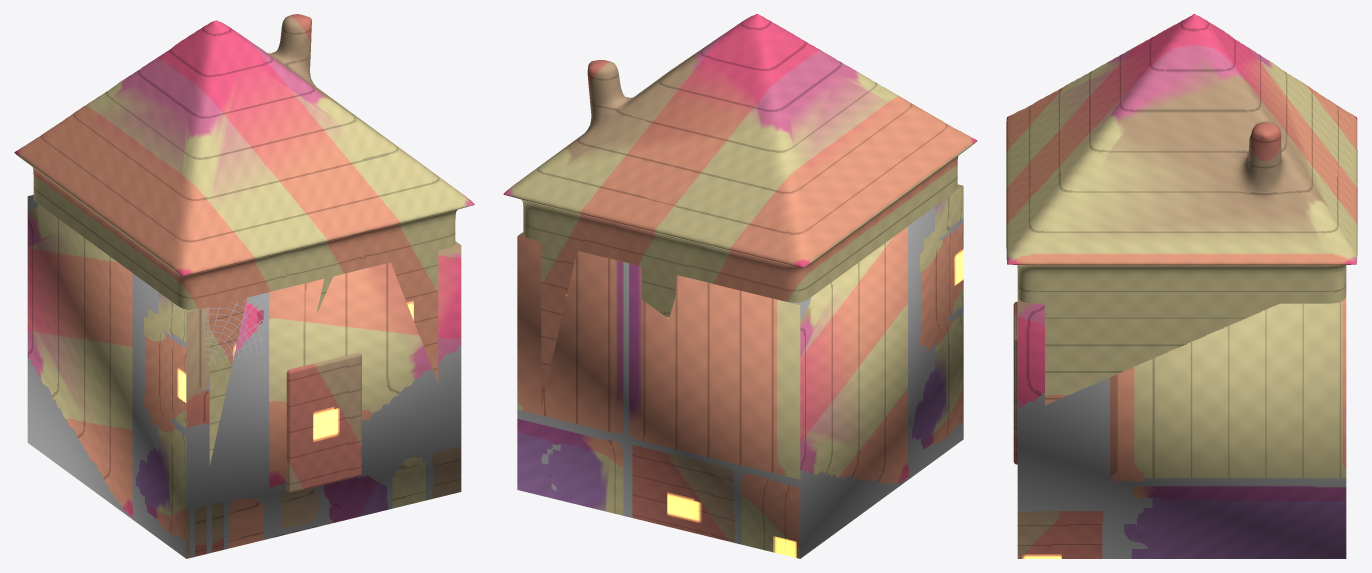
File: house_bouncy.glb
3 views of the same model, side by side, from view 1: azimuth 30°, elevation 25°; view 2: azimuth 150°, elevation 25°; view 3: azimuth 270°, elevation 25° (orthographic). The views are drawn at different scales.
Visible parts, largest first — view 1: col, lod0, door, cobweb; view 2: col, lod0; view 3: lod0, col, door.
Part boxes in pixels (x1,y1,x2,y2): col: [27, 195, 461, 558]; lod0: [14, 14, 474, 465]; door: [286, 352, 361, 492]; cobweb: [204, 295, 262, 365]; col: [517, 184, 963, 558]; lod0: [503, 14, 977, 406]; lod0: [1006, 14, 1357, 405]; col: [1017, 294, 1346, 558]; door: [1013, 301, 1017, 464].
Size of what is drawn, in the model's own units: 7.48 by 10.89 by 7.48.
2 materials, 2 textured.
